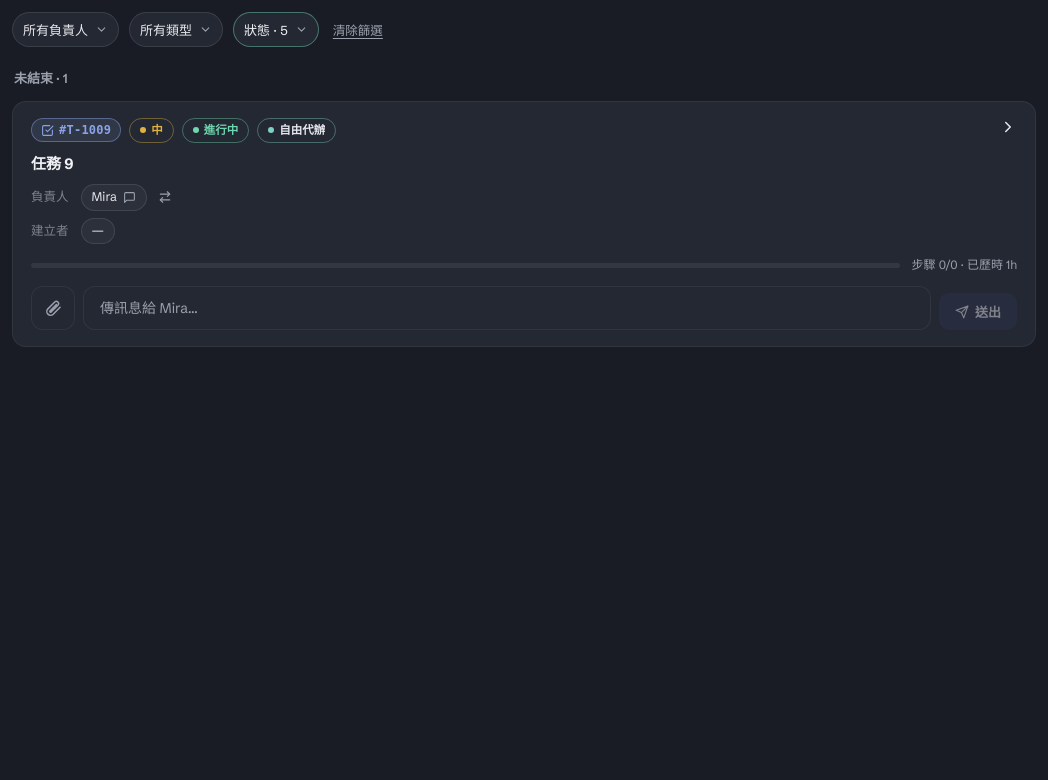
it: TasksPage 單一任務 filter (#tasks/<id>) › 清除篩選 lifts the anchor AND every other axis → 顯示全部 (terminals included, T-50bb)
This screenshot has width=1048, height=780.
Click the button with test id "clear-filters" at (358, 30), box [329,14,387,45]
(page scrolled)
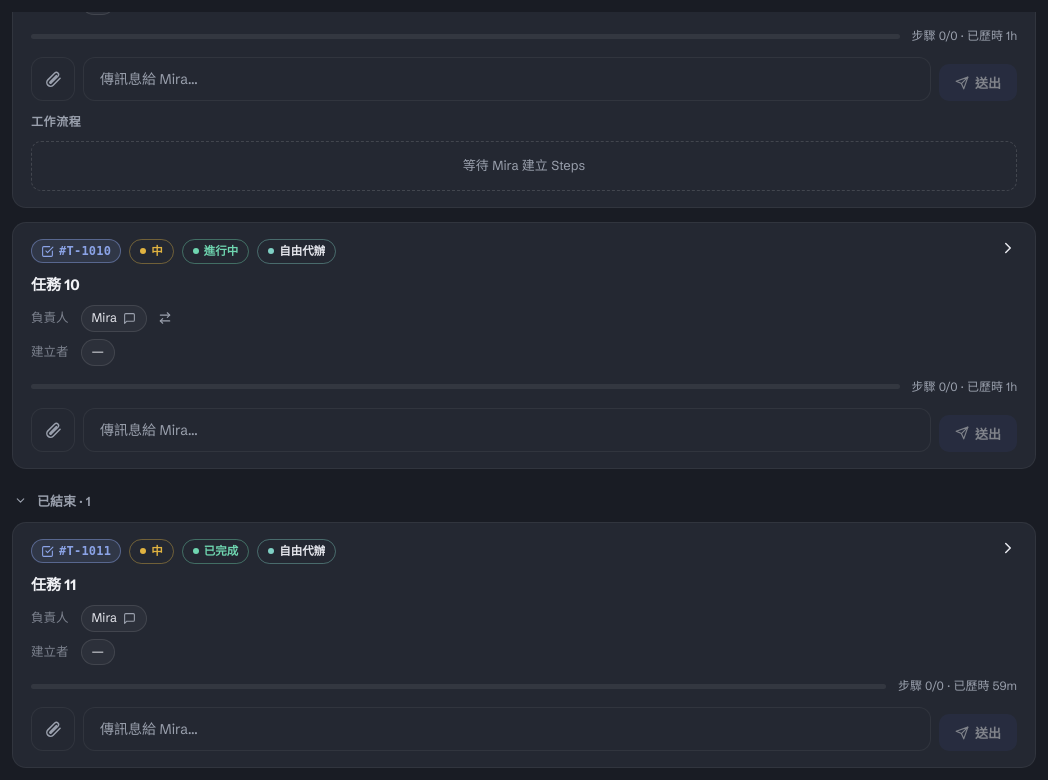
Expected: the button "#T-1010 中 進行中 自由代辦 任務 10 負責人 Mira 建立者 — 步驟 0/0 · 已歷時 1h 送出" is shown, [12,222,1036,469]
Expected: the button "#T-1011 中 已完成 自由代辦 任務 11 負責人 Mira 建立者 — 步驟 0/0 · 已歷時 59m 送出" is shown, [12,522,1036,768]
